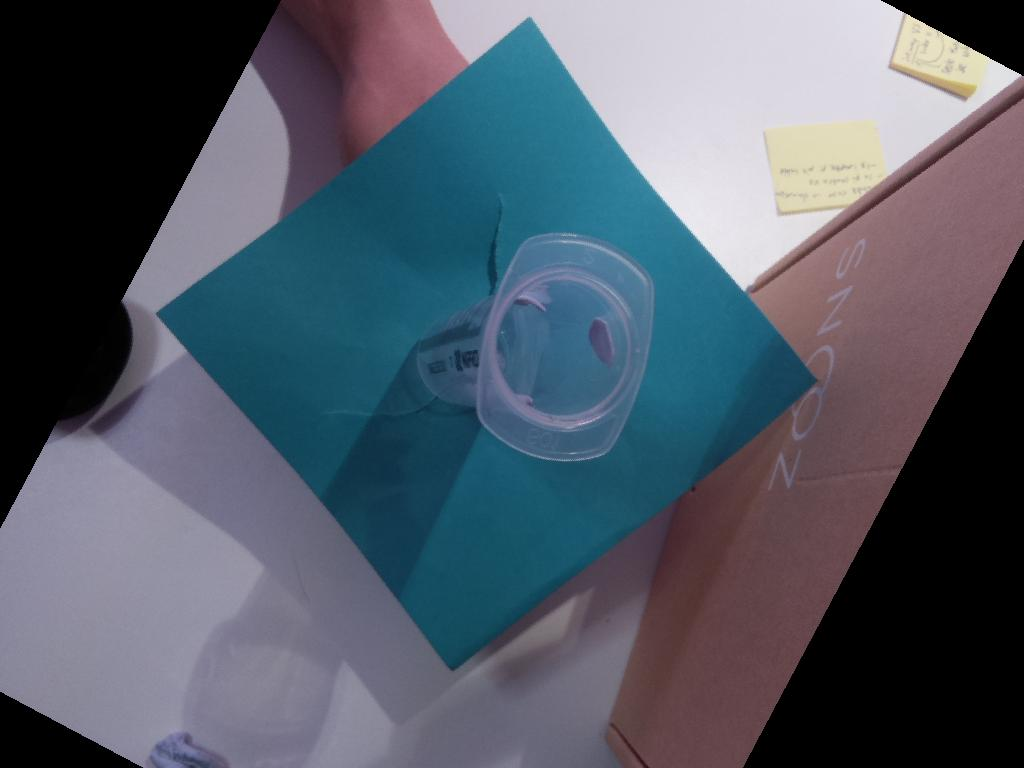dirty: (476, 231, 656, 462)
